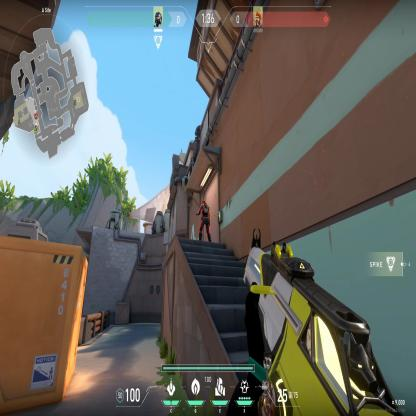enemy: (194, 197, 212, 244)
